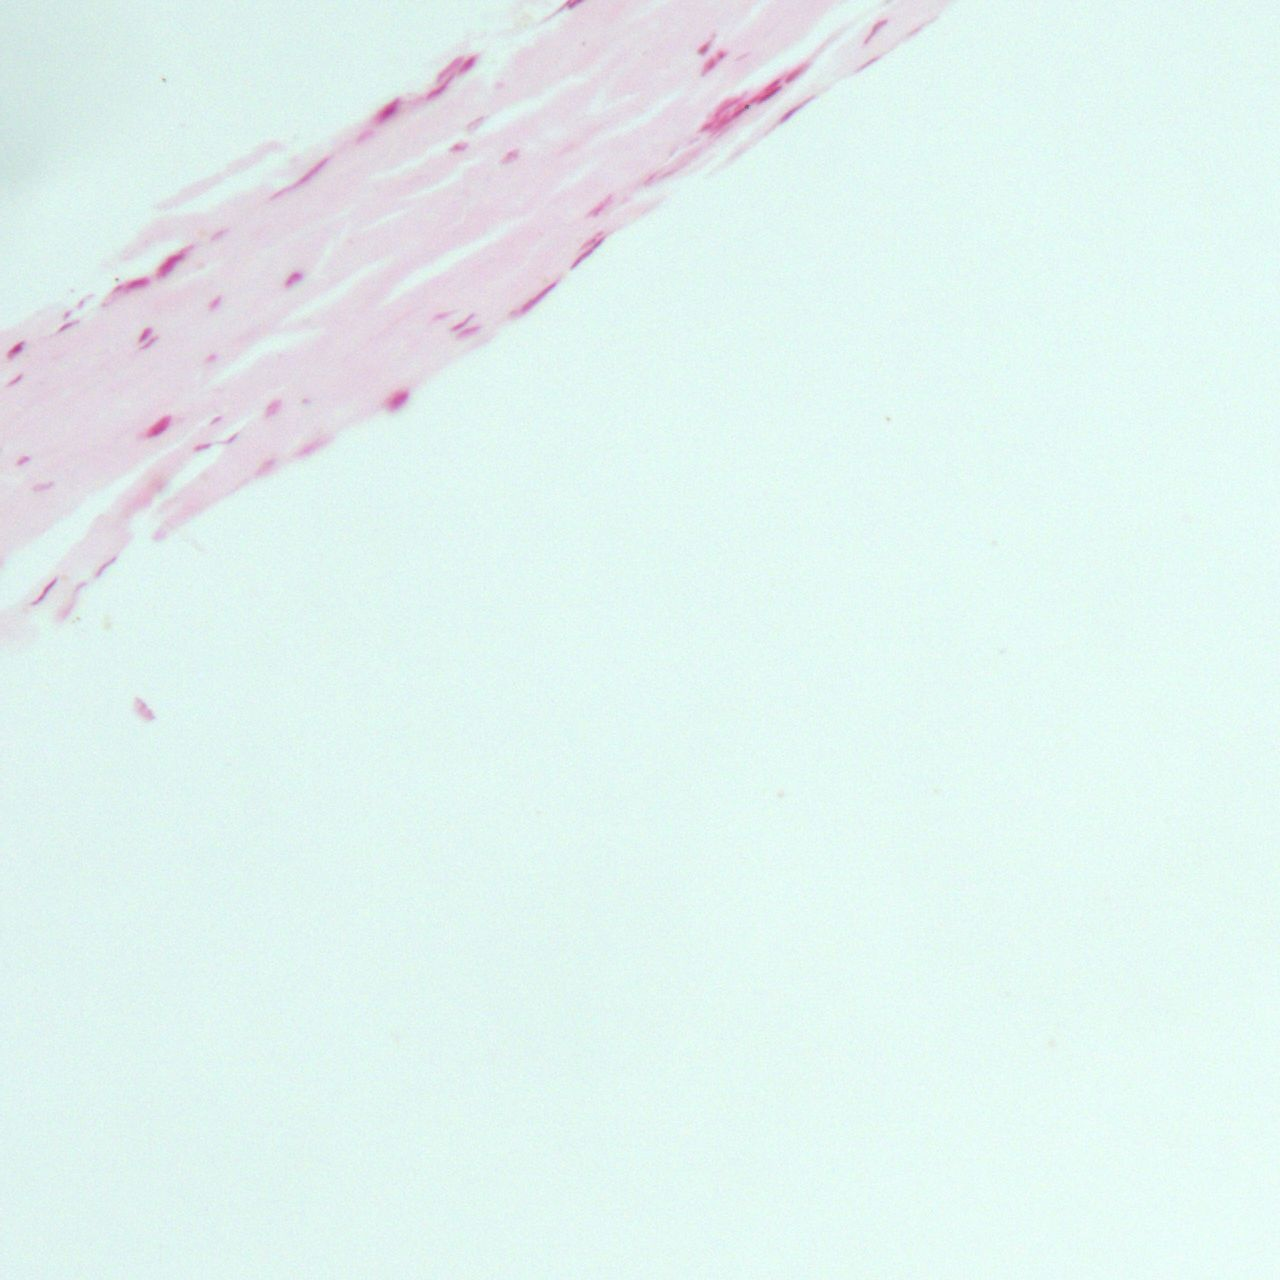dust: (885, 415, 891, 422), (744, 105, 750, 110)
nucleus-AC: (266, 154, 335, 205), (510, 278, 560, 321), (707, 97, 756, 135), (151, 245, 195, 281), (366, 94, 406, 130), (567, 234, 608, 268), (775, 93, 813, 127), (113, 270, 152, 302), (584, 188, 620, 220), (856, 15, 892, 45), (422, 74, 456, 104), (433, 54, 467, 83), (380, 384, 411, 415), (782, 57, 815, 86), (30, 577, 60, 607), (709, 91, 741, 118), (142, 415, 175, 441), (699, 49, 727, 79), (447, 311, 476, 336), (251, 454, 279, 479), (91, 554, 118, 580), (454, 320, 483, 343), (756, 74, 783, 98), (259, 396, 286, 420), (350, 125, 377, 149), (756, 84, 783, 108), (297, 437, 324, 461), (425, 305, 457, 325), (578, 229, 606, 250), (496, 145, 522, 168), (856, 53, 881, 74), (5, 338, 29, 359), (281, 270, 305, 291), (457, 53, 481, 74), (132, 324, 157, 343), (641, 166, 663, 188), (204, 292, 226, 313), (694, 38, 716, 59), (138, 332, 162, 352), (30, 478, 55, 495), (57, 316, 79, 334), (206, 226, 229, 243), (904, 22, 925, 39), (5, 372, 26, 387), (12, 452, 30, 469), (225, 428, 241, 444), (202, 350, 220, 365), (59, 308, 74, 322), (207, 414, 223, 425), (192, 442, 213, 450), (450, 142, 467, 152), (75, 299, 86, 308), (301, 399, 309, 404)
